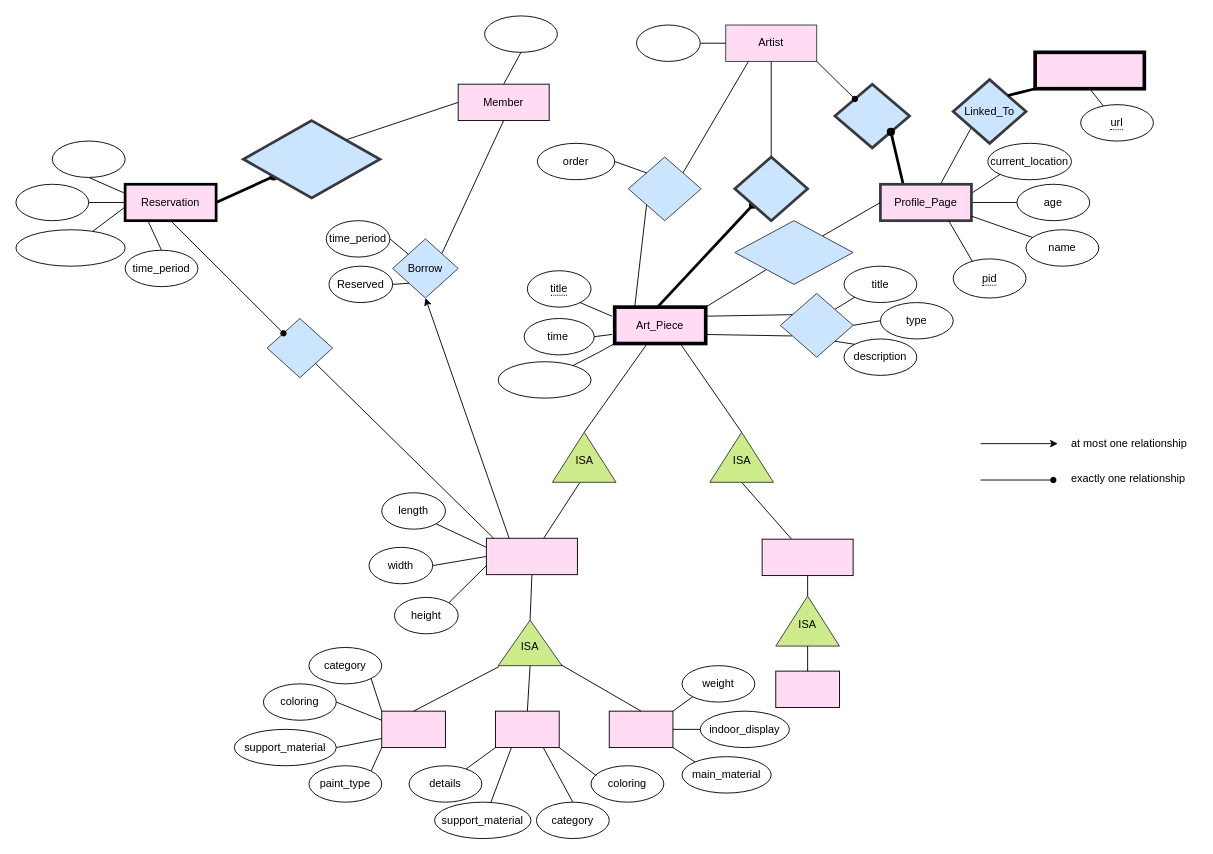
This 1213x854 diagram has some shape labels left out. Each missing label, with the centre of its shape:
"aid" goes at [668,42].
"Collection" goes at [816,325].
"Connected_To" goes at [793,252].
"External_Resources" goes at [1089,70].
"Has_A" goes at [871,115].
"Main_Artist" goes at [771,188].
"Make_Reservation" goes at [311,159].
"mid" goes at [520,33].
"Non-physical" goes at [807,557].
"Painting" goes at [413,729].
"Photo" goes at [807,689].
"Photo_Print" goes at [527,729].
"Physical" goes at [531,556].
"place_in_queue" goes at [70,247].
"place_of_creation" goes at [544,379].
"Reserve" goes at [299,348].
"rid" goes at [88,158].
"Sculpture" goes at [640,729].
"Sub-Artist" goes at [664,188].
"time_placed" goes at [52,202].
